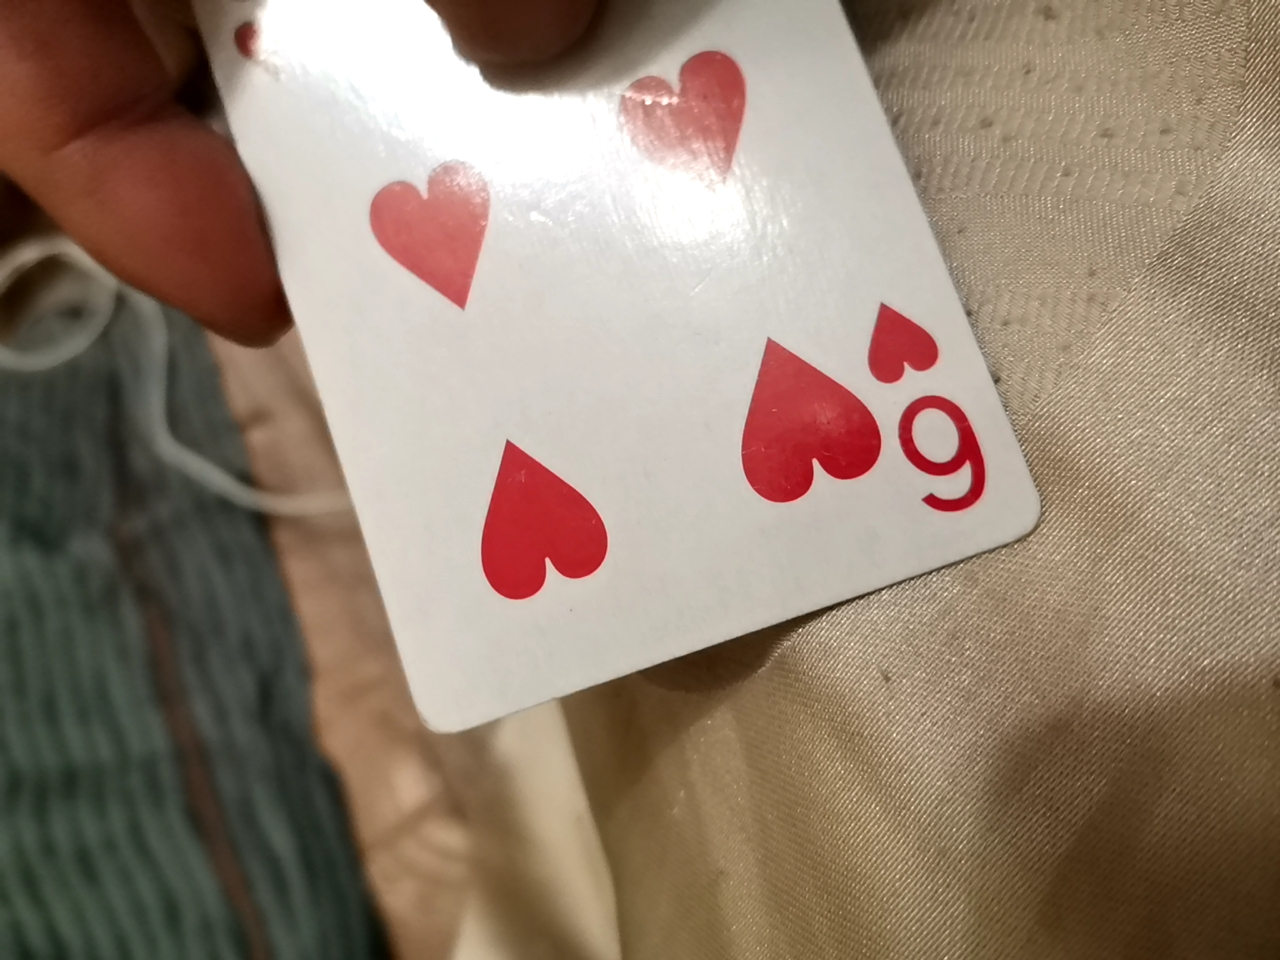hx 6: (177, 4, 1039, 757)
